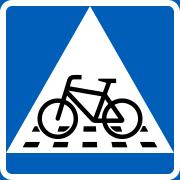Cycle Crossing: (13, 9, 170, 164)
